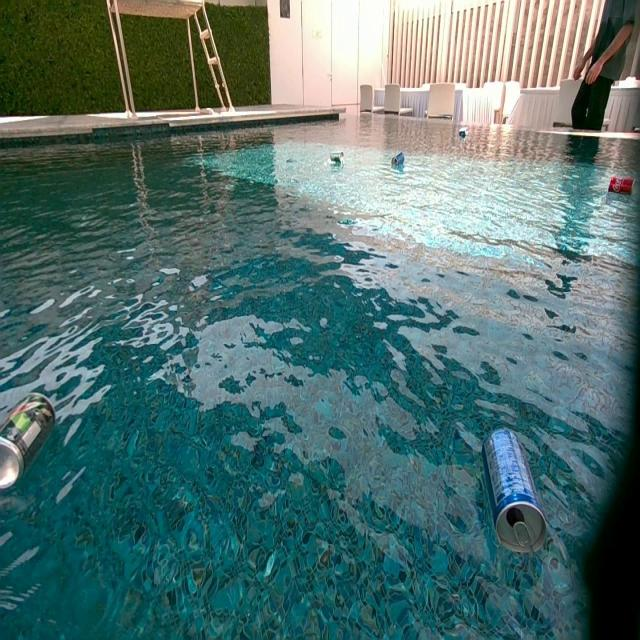Cans: (484, 427, 549, 555), (0, 389, 58, 495), (610, 177, 634, 196), (332, 150, 346, 168), (392, 151, 404, 166), (458, 128, 468, 138)
